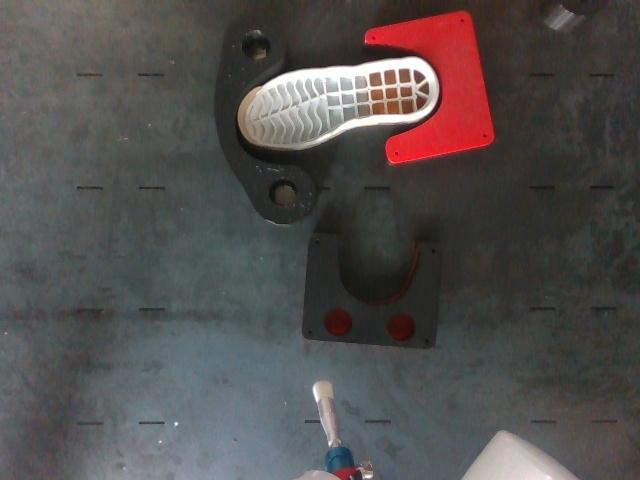shoes: (238, 58, 436, 147)
